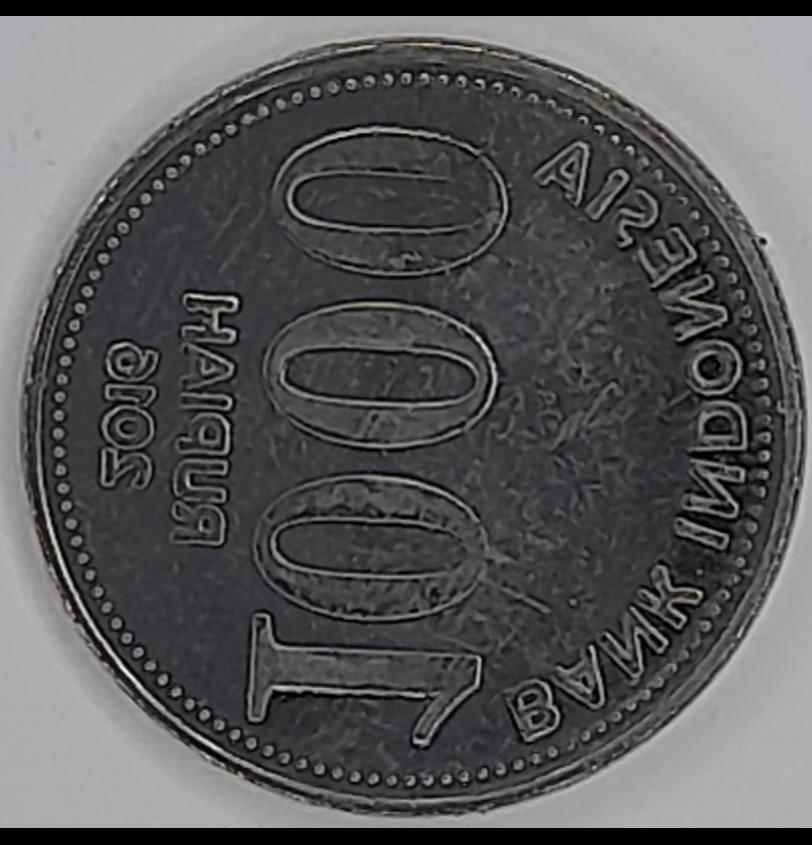coin_1000_e2016: (14, 17, 801, 845)
